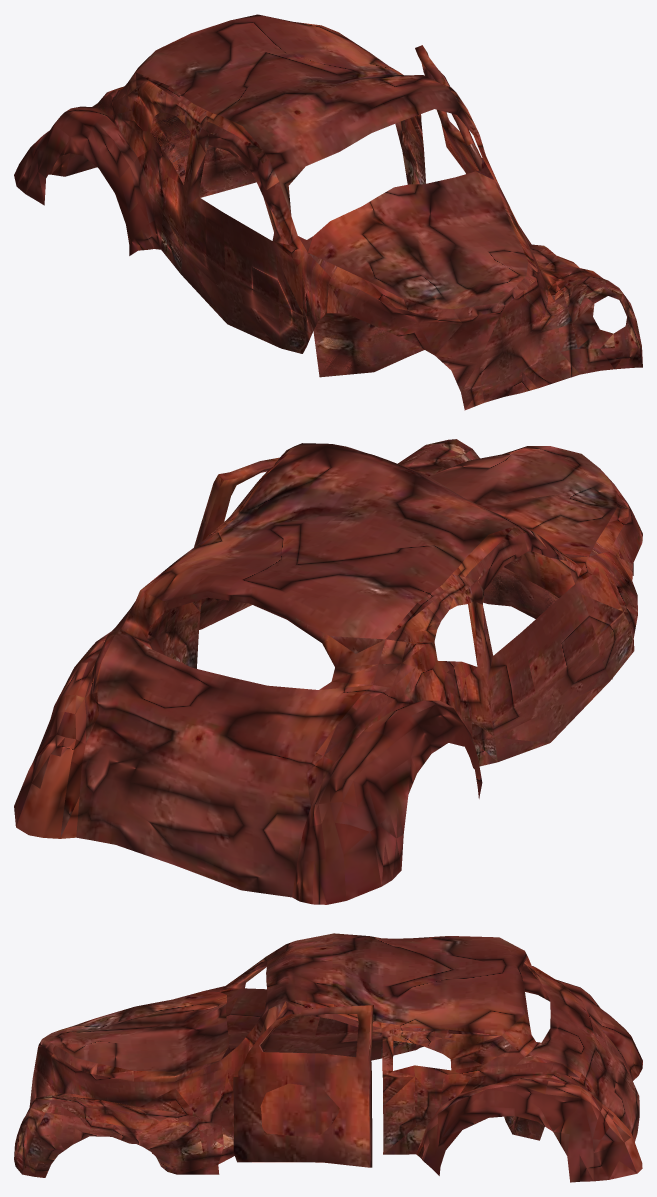
The model's file is ADDON_CANYONOBJECT_CAR_01.glb.
3 views of the same model, one above another, from view 1: azimuth 30°, elevation 25°; view 2: azimuth 150°, elevation 25°; view 3: azimuth 270°, elevation 25° (orthographic). The views are drawn at different scales.
Visible parts, largest first — view 1: Mesh; view 2: Mesh; view 3: Mesh.
Part boxes in pixels (x1,y1,x2,y2): Mesh: (14,14,642,410); Mesh: (14,439,642,904); Mesh: (14,933,642,1182).
Size of the model in its own units: 3.05 by 1.72 by 5.61.
1 material, 1 textured.
